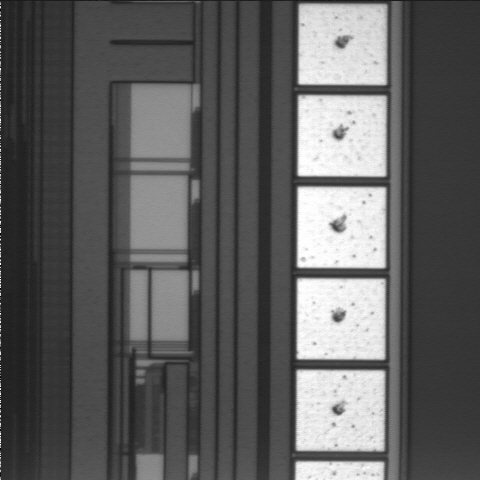pad: (298, 95, 386, 177), (297, 278, 385, 360), (297, 187, 386, 268), (296, 370, 385, 451), (299, 4, 386, 85)
